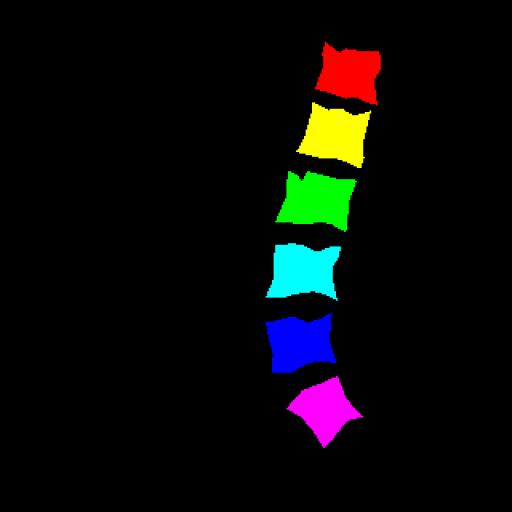L1: (315, 42, 379, 104)
L2: (297, 102, 371, 168)
L3: (276, 171, 356, 230)
L4: (268, 243, 340, 300)
L5: (266, 314, 336, 372)
S1: (287, 377, 363, 446)
